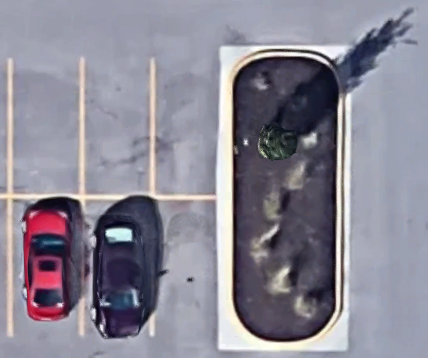Occupied: (9, 195, 81, 335), (81, 196, 152, 336)
Vacant: (9, 57, 82, 195), (153, 196, 223, 337), (153, 58, 223, 196), (82, 59, 152, 196)
